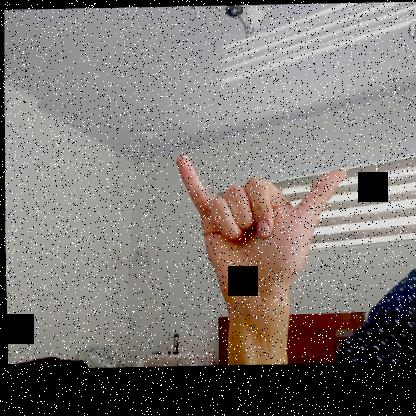Y: (169, 151, 349, 304)
